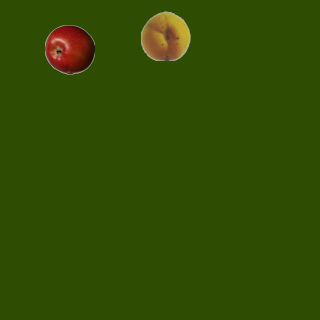Apple Braeburn: (44, 24, 94, 74)
Peach 2: (140, 10, 190, 60)
